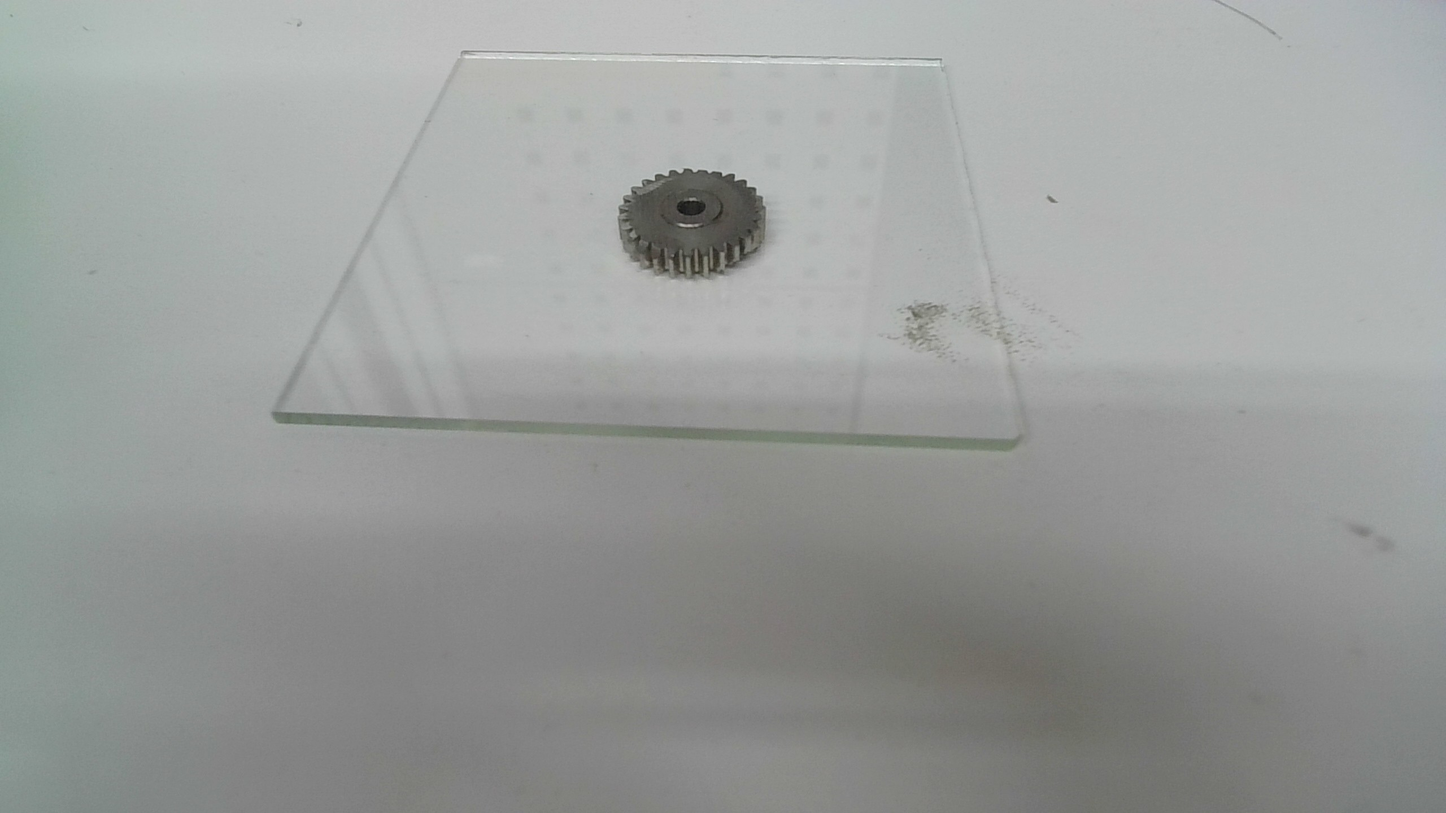gear: (615, 165, 769, 280), (616, 165, 768, 279)
